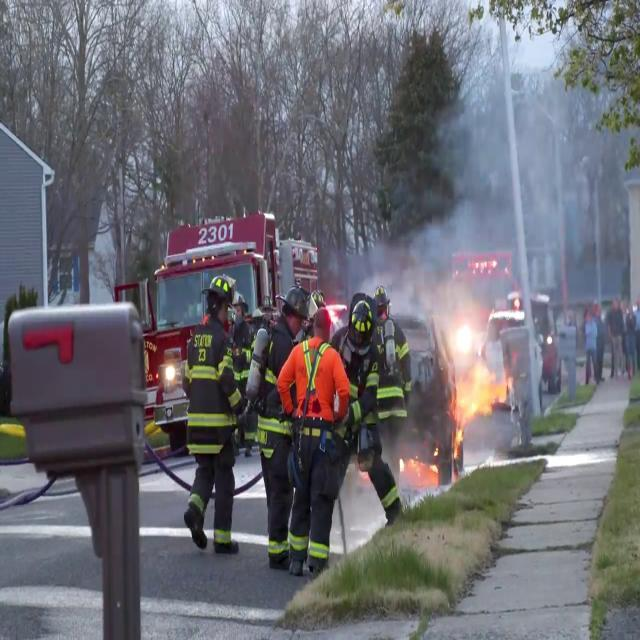Fire: (450, 320, 510, 425)
Smoke: (413, 19, 640, 378)
